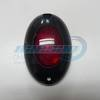bell: (25, 13, 75, 87)
